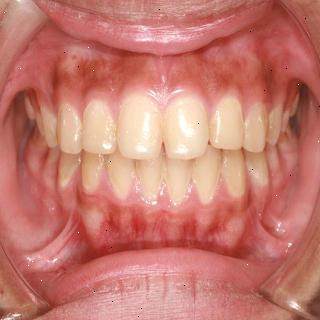Gum Swelling: (99, 79, 196, 124), (196, 84, 254, 122), (53, 80, 101, 122), (156, 181, 209, 216), (86, 168, 123, 206), (209, 175, 241, 212), (127, 172, 154, 211)
plaque: (191, 153, 221, 203), (161, 153, 189, 203), (104, 154, 134, 200), (136, 155, 164, 202), (218, 95, 249, 137), (95, 104, 121, 148), (245, 101, 267, 149), (247, 151, 270, 196), (224, 152, 246, 196), (67, 110, 88, 150), (58, 149, 80, 187), (80, 152, 102, 189), (264, 106, 278, 140)
